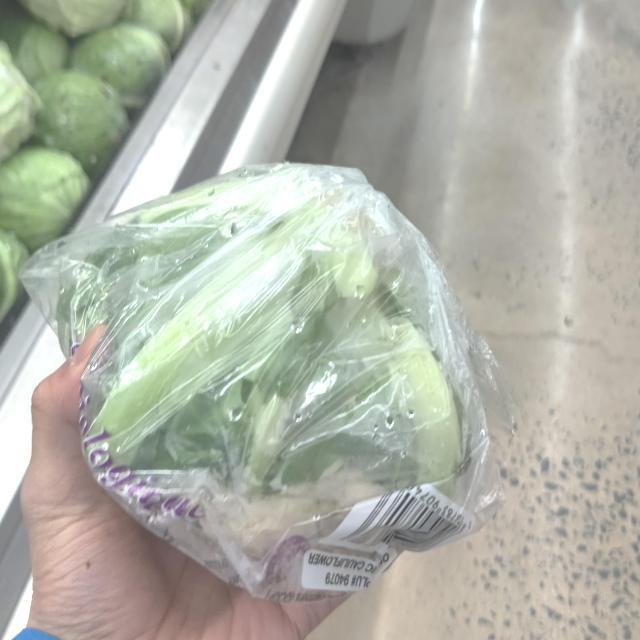Cabbage: (26, 71, 137, 178), (0, 149, 98, 249), (70, 23, 184, 108), (0, 36, 42, 162), (2, 0, 138, 36), (117, 0, 193, 41)
Cauliflower: (39, 151, 492, 602)
